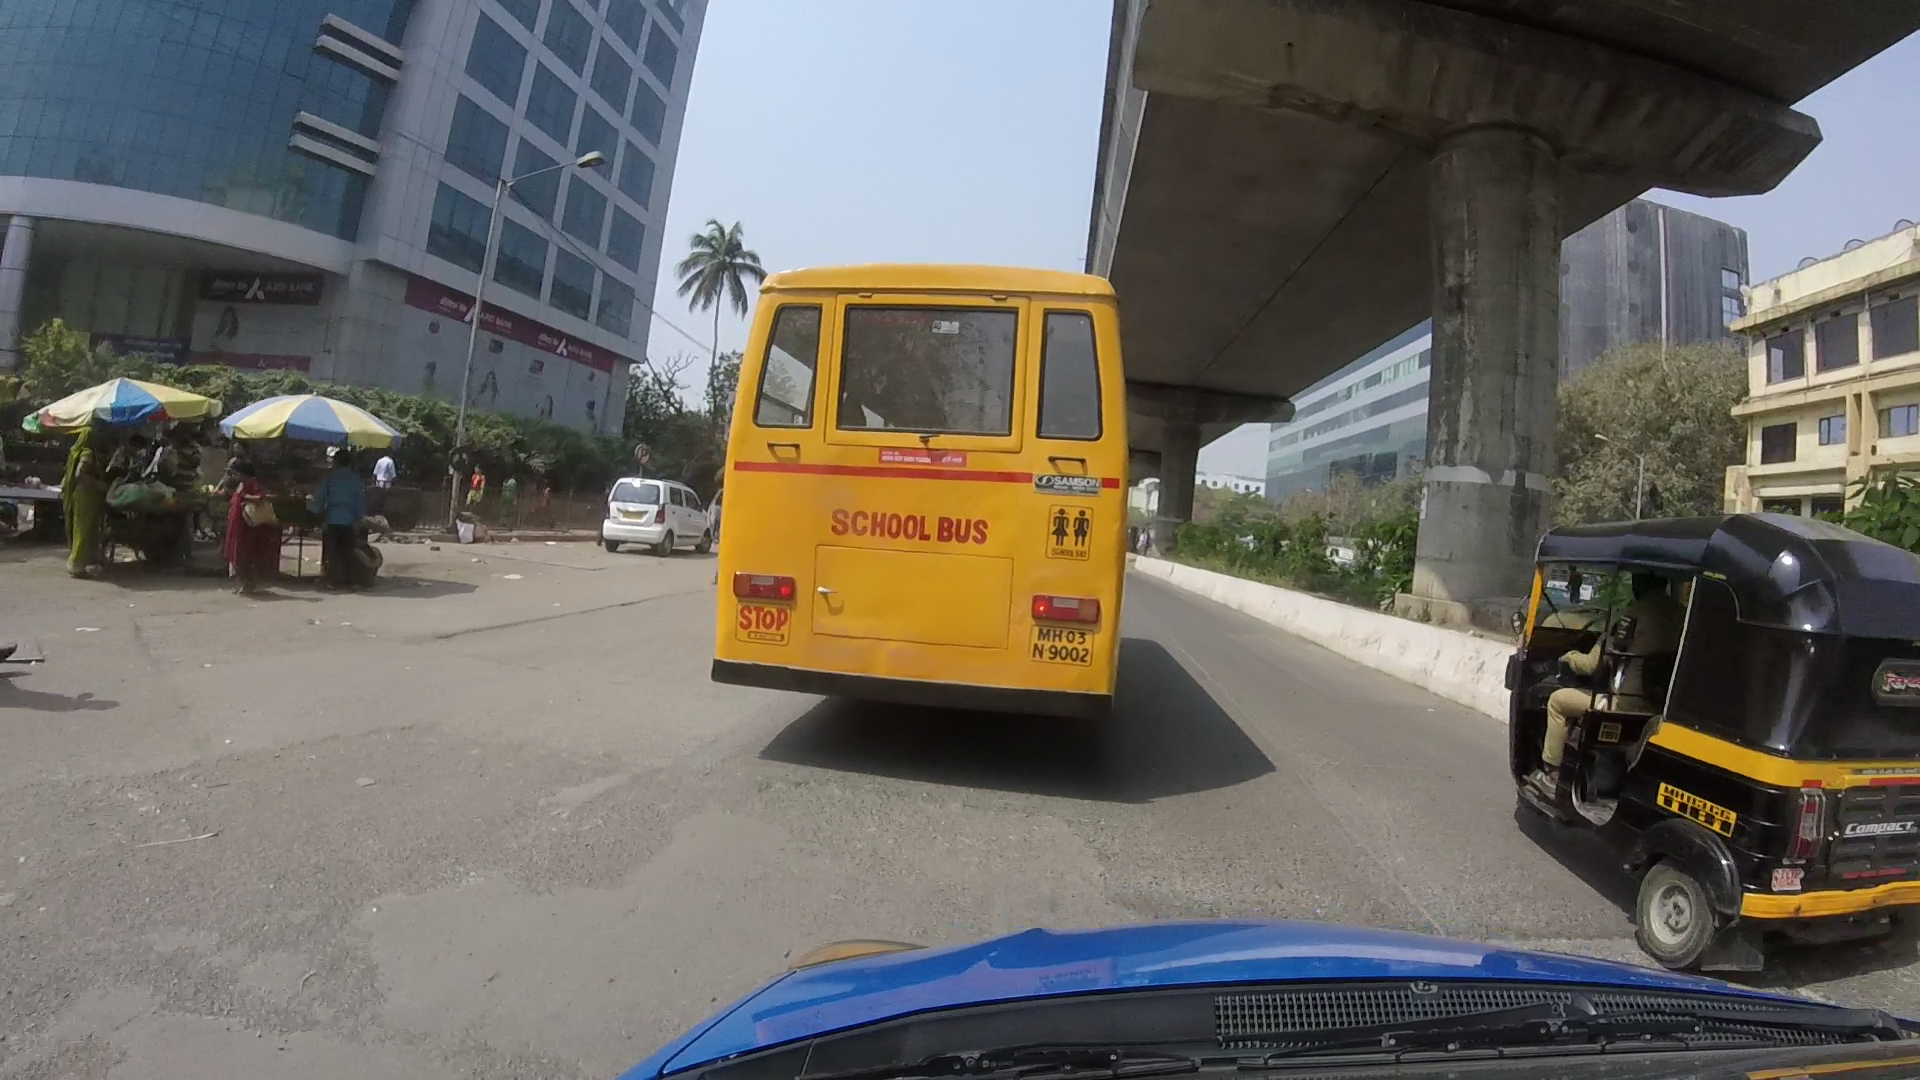bus: (715, 248, 1142, 716)
car: (585, 439, 709, 578)
rickshaw: (1486, 498, 1917, 957)
